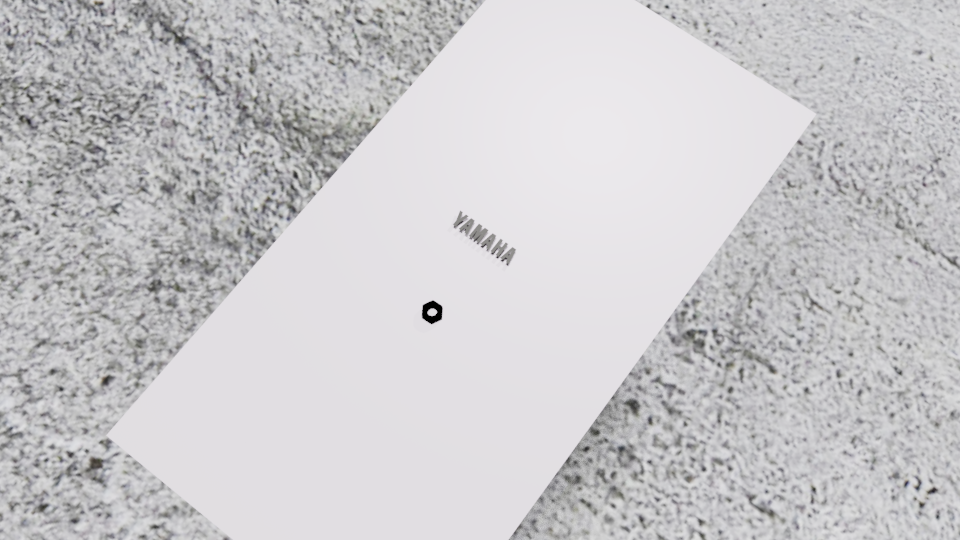yamaha_letters: (452, 209, 516, 264)
